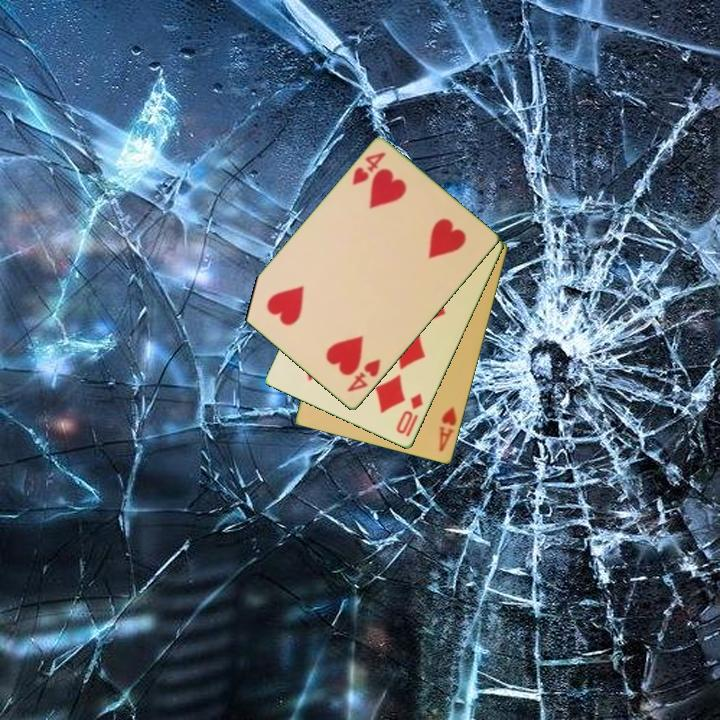10d: (393, 390, 426, 437)
4h: (343, 356, 384, 395), (349, 149, 389, 188)
Ah: (435, 403, 460, 455)
